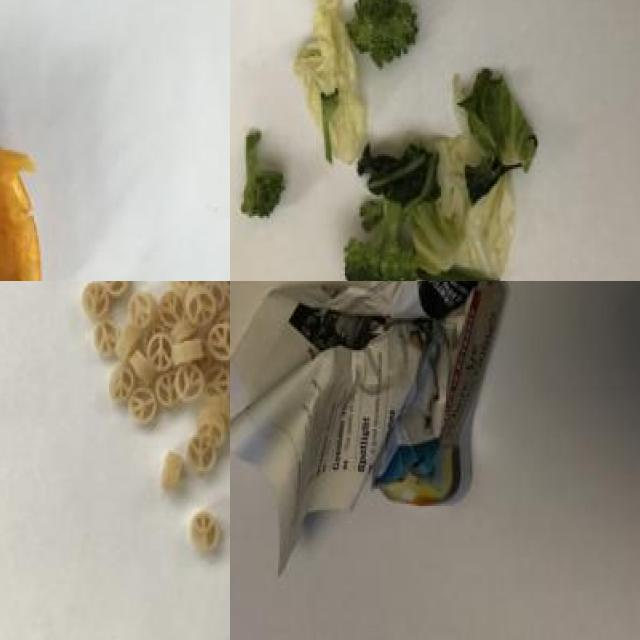compost: (230, 0, 544, 281), (66, 281, 230, 576), (0, 91, 94, 281)
paper: (230, 281, 533, 540)
